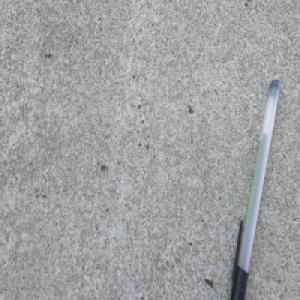Pen: (225, 72, 283, 300)
